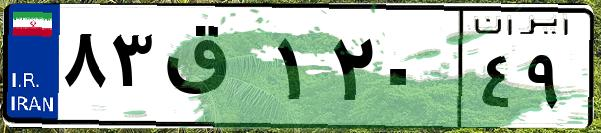0: (385, 28, 445, 110)
1: (270, 28, 330, 110)
2: (330, 28, 385, 110)
3: (110, 28, 158, 98)
4: (475, 38, 525, 113)
8: (57, 26, 110, 100)
9: (525, 38, 570, 115)
ق: (158, 20, 270, 120)
